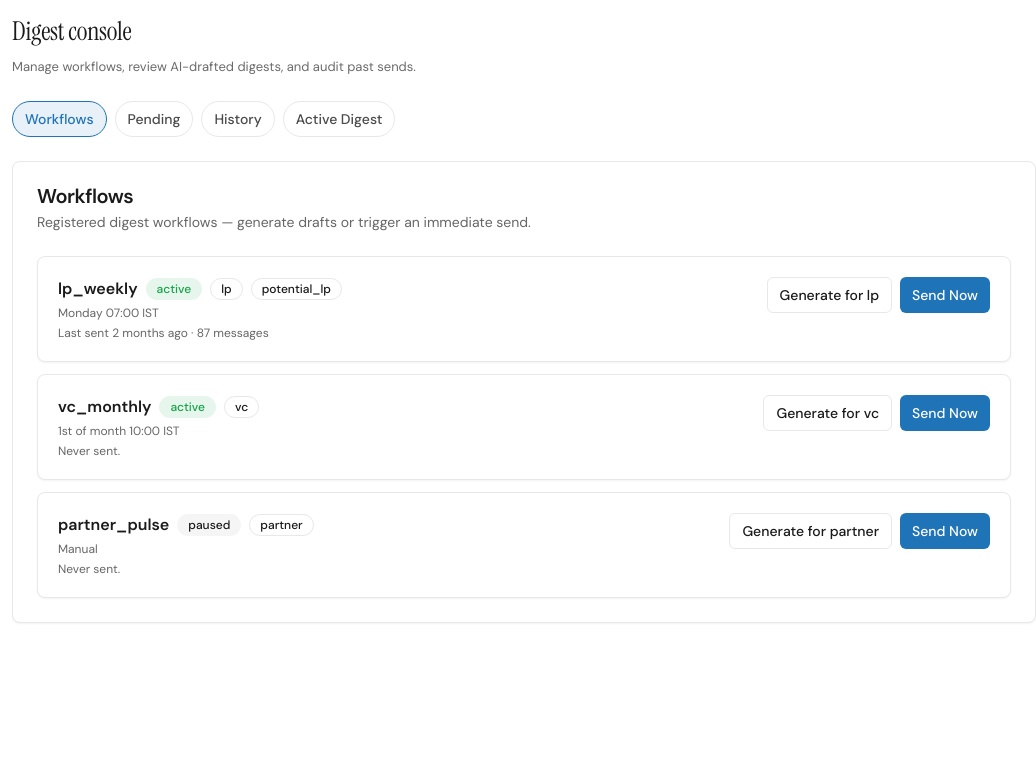
Test case: AdminDigestPage › History tab lists sent digests
Click the tab with test id "tab-history". click: [238, 118]
box: [201,100,275,136]
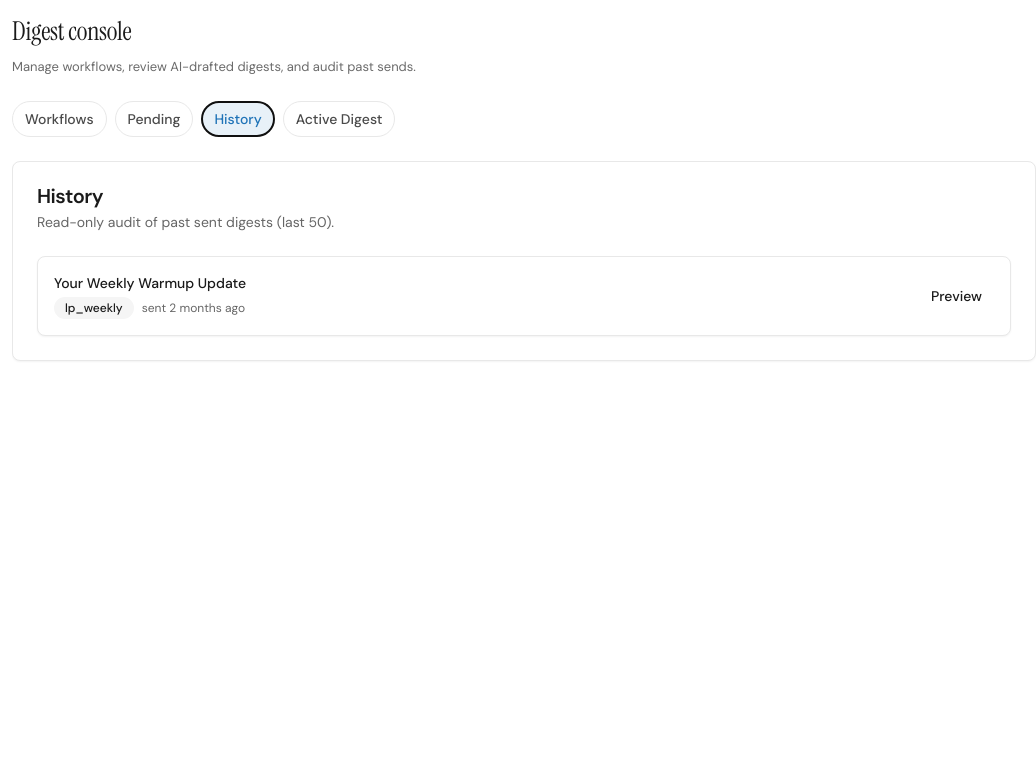
Now the list with test id "history-list" is shown, box [37,256,1011,336]
Now the text "Your Weekly Warmup Update" is shown, box [54,272,246,292]
